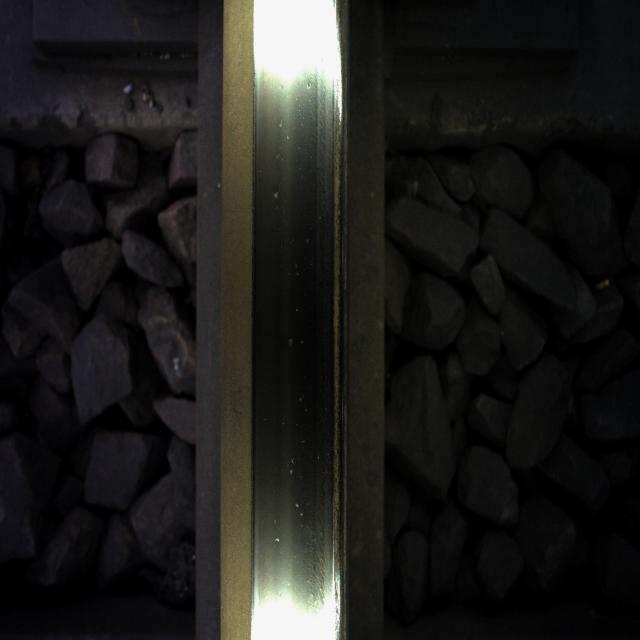break: (256, 54, 340, 561)
